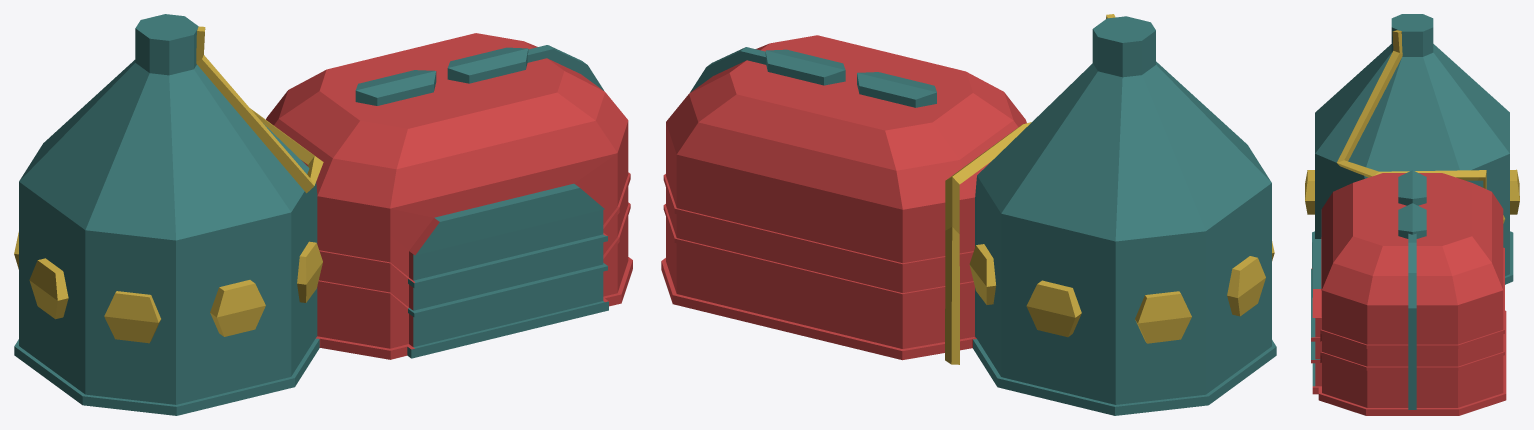
The model's file is factory_model.fbx.
The picture shows the model from 3 angles, left to right: view 1: azimuth 30°, elevation 25°; view 2: azimuth 150°, elevation 25°; view 3: azimuth 270°, elevation 25°; orthographic projection. The views are drawn at different scales.
Visible parts, largest first — view 1: buildings_shape1; view 2: buildings_shape1; view 3: buildings_shape1.
Boxes of the visible parts, x1,y1,x2,y2 form: buildings_shape1: (14,14,632,415); buildings_shape1: (661,14,1276,415); buildings_shape1: (1305,14,1519,415).
Size of the model in its own units: 15.08 by 8.44 by 6.77.
